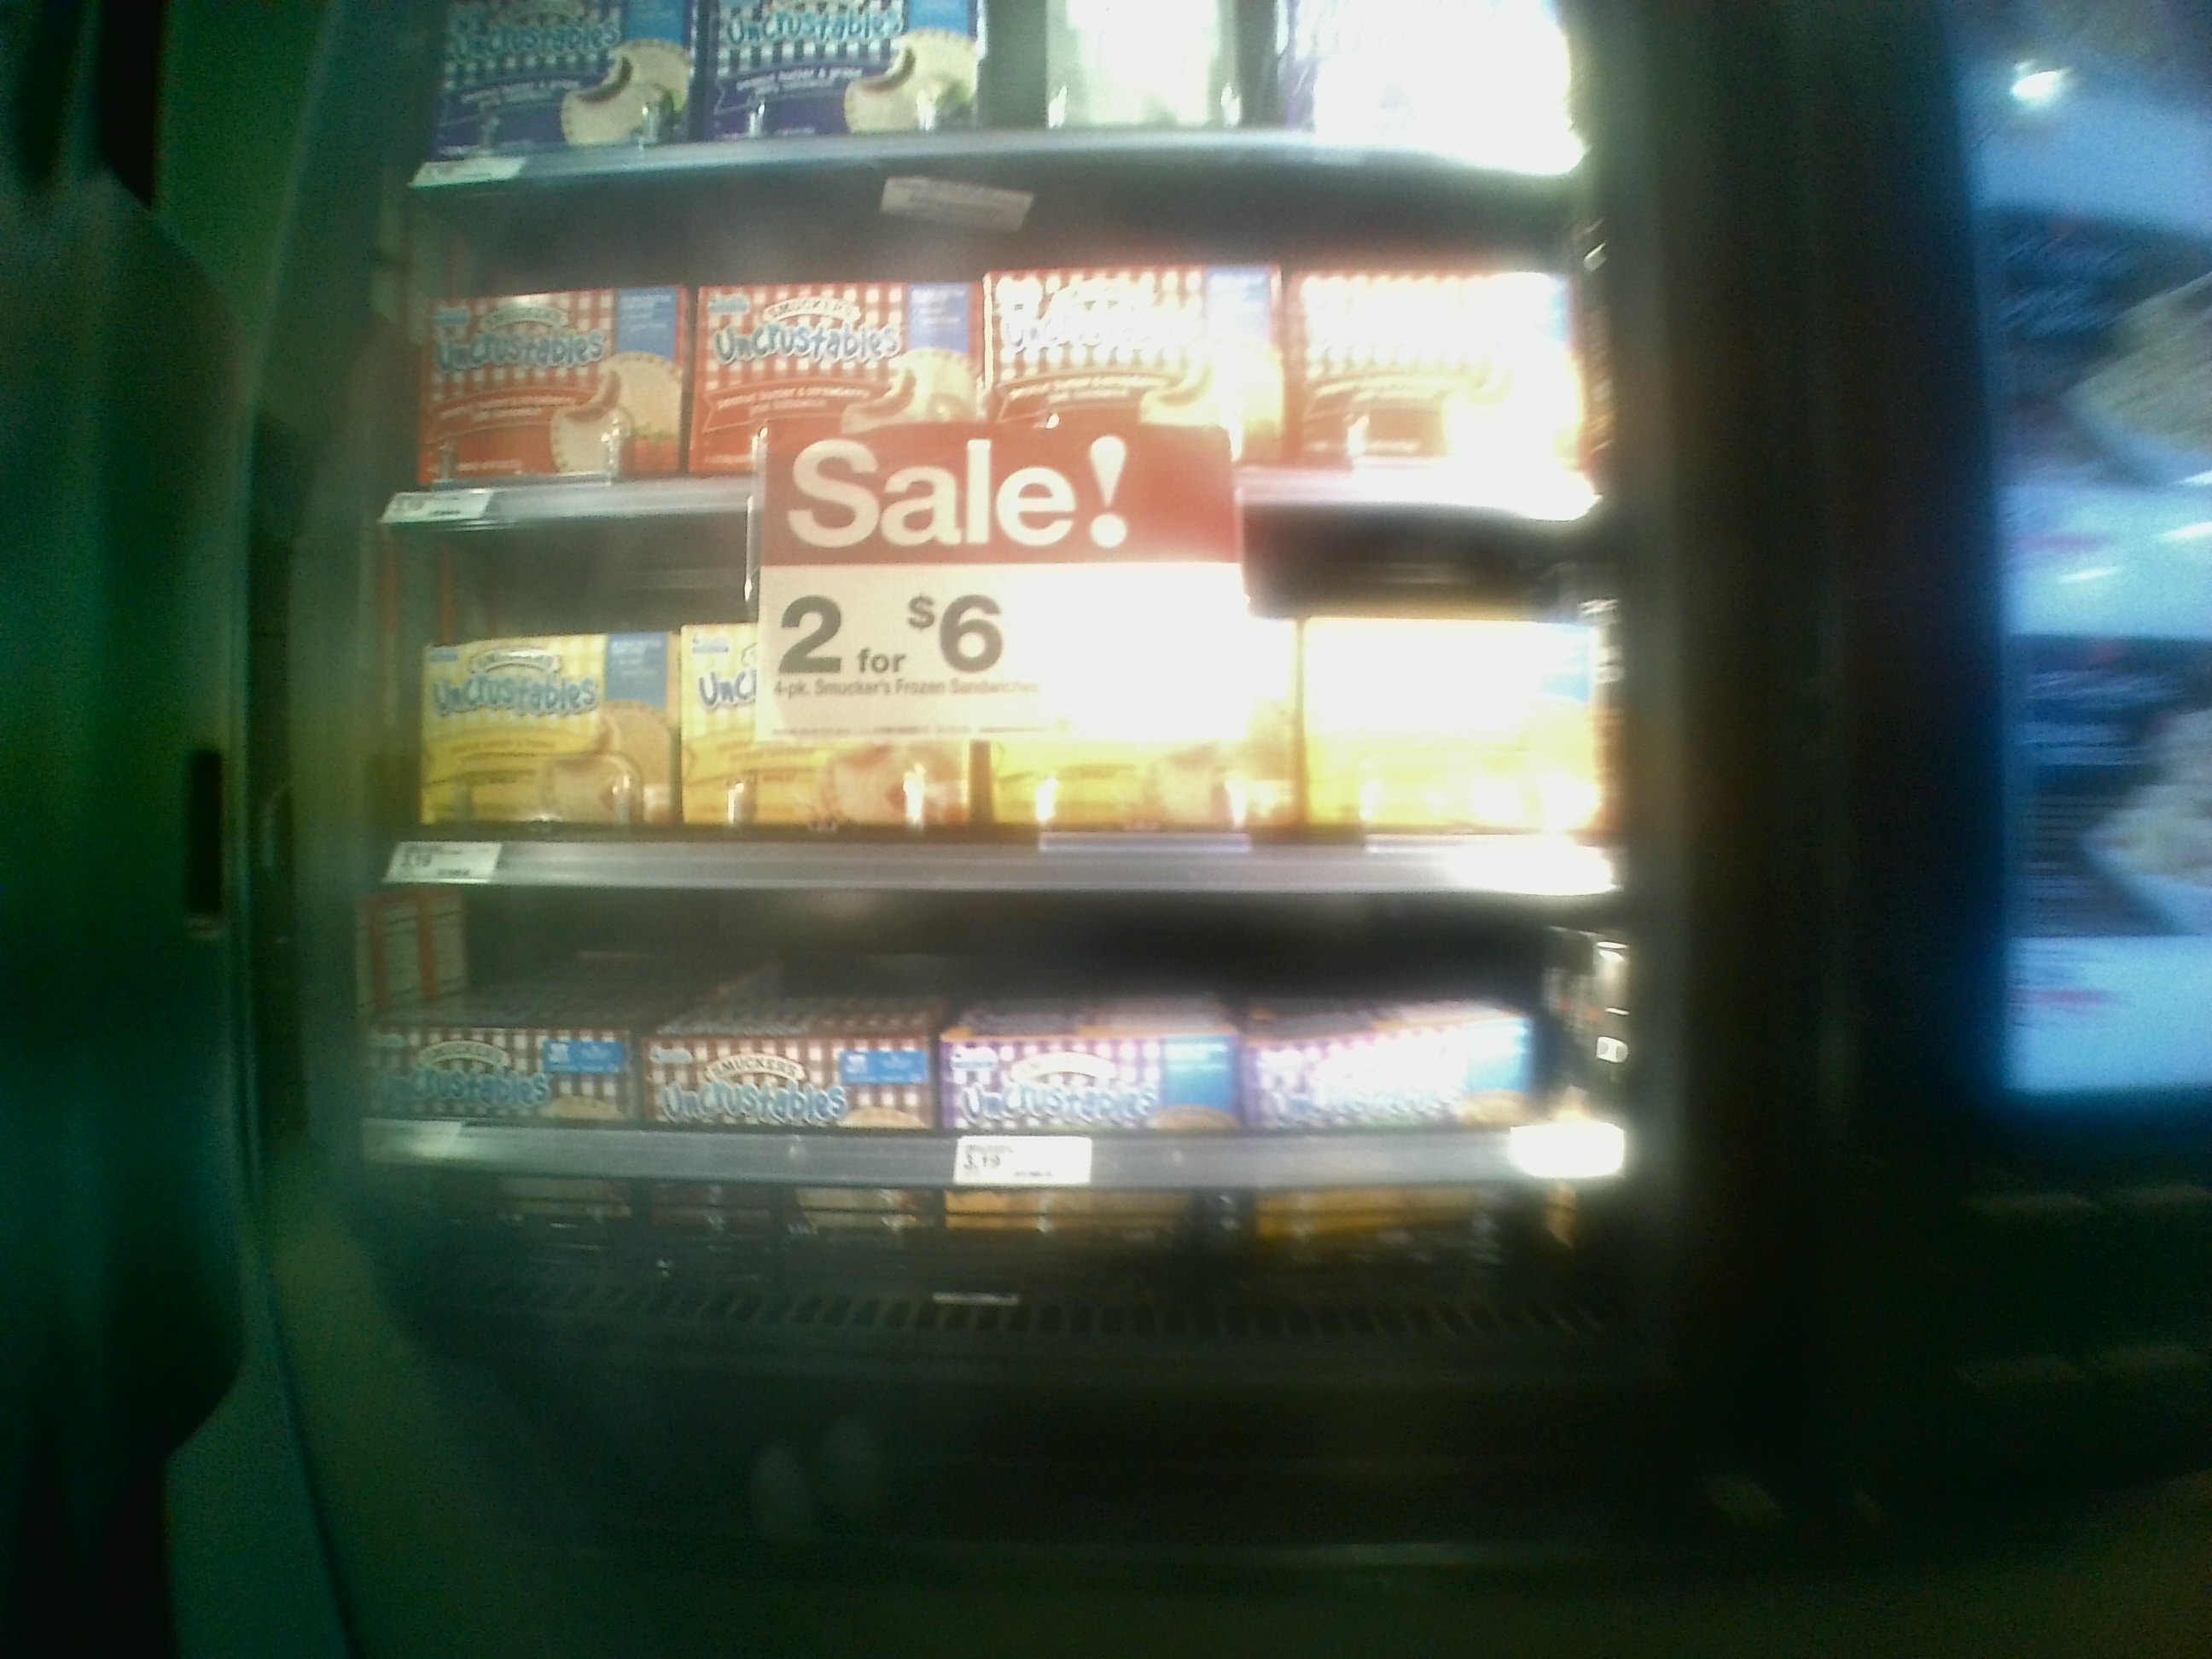shelf: (345, 897, 1679, 1368), (376, 538, 1634, 915), (394, 186, 1616, 535)
